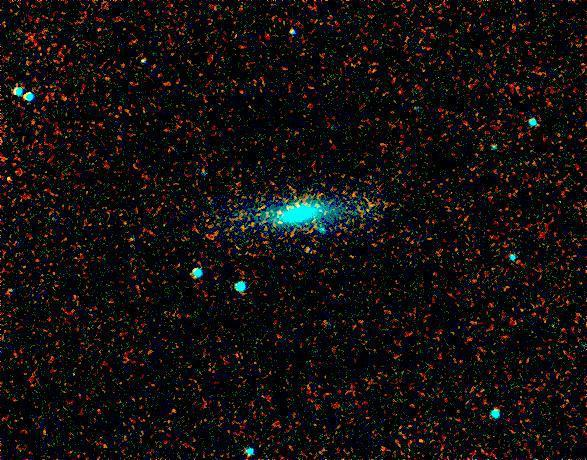star: (265, 198, 295, 228)
